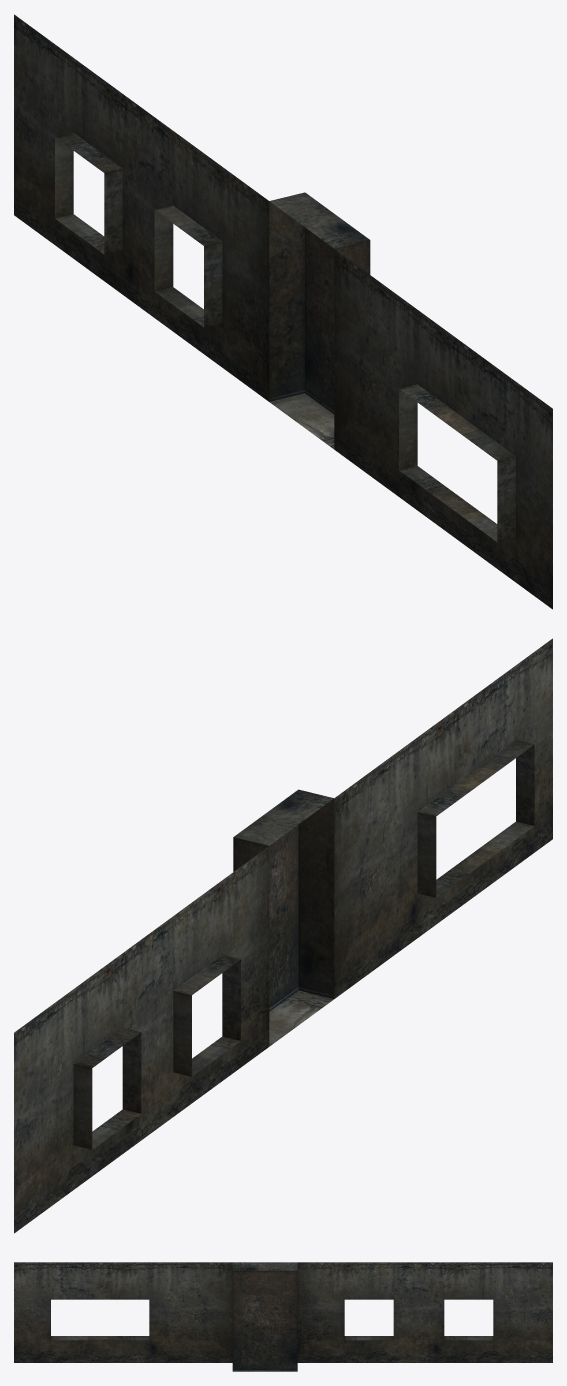
Rendered from Wall_01.FBX.
3 renders of one model, top to bottom at view 1: azimuth 30°, elevation 25°; view 2: azimuth 150°, elevation 25°; view 3: azimuth 270°, elevation 25°, orthographic. The views are drawn at different scales.
Visible parts, largest first — view 1: Wall_01; view 2: Wall_01; view 3: Wall_01.
Part boxes in pixels (x1=…): Wall_01: x1=14, y1=14, x2=552, y2=609; Wall_01: x1=14, y1=638, x2=552, y2=1233; Wall_01: x1=14, y1=1262, x2=552, y2=1371.
Size of the model in its own units: 145 by 511 by 2485.
